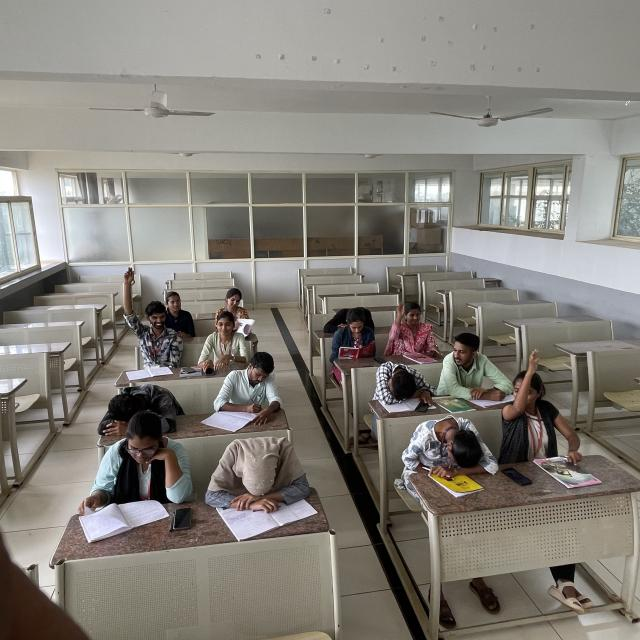Hand Rising: (501, 349, 567, 446), (121, 265, 176, 355)
Reading: (87, 414, 169, 533), (210, 284, 253, 334), (332, 310, 376, 358)
Sleeping: (206, 435, 312, 517), (402, 415, 491, 478), (98, 382, 178, 431), (371, 360, 429, 403)
Using Phone: (204, 313, 234, 377)
Writing: (215, 350, 284, 427)
